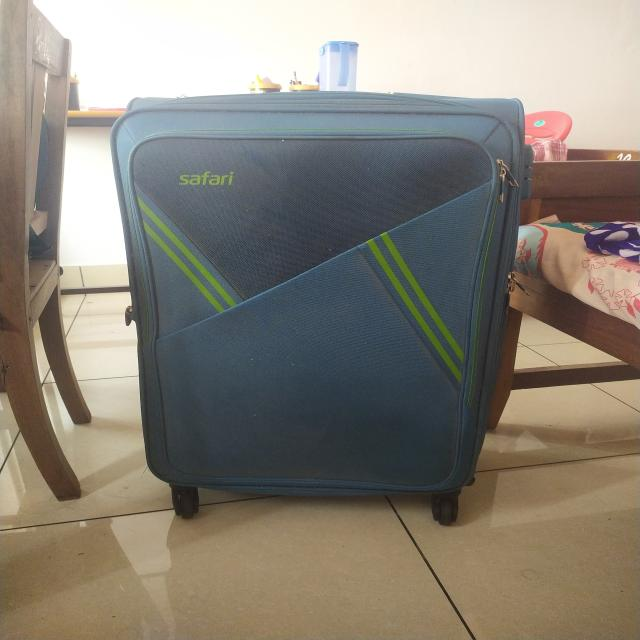suitcaserotation: (105, 86, 537, 526)
